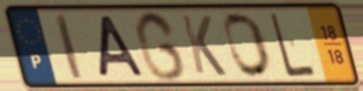A: (98, 14, 148, 79)
G: (132, 8, 189, 84)
I: (51, 11, 86, 82)
K: (178, 13, 230, 79)
L: (267, 10, 318, 79)
O: (222, 10, 274, 80)
